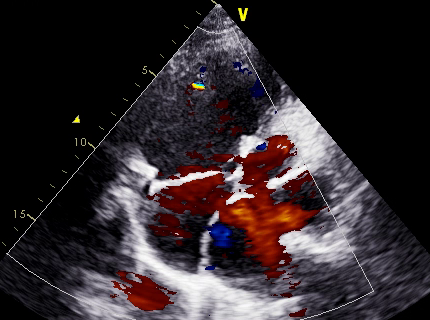TR: (186, 163, 246, 237)
